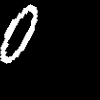chain: (0, 4, 36, 63)
